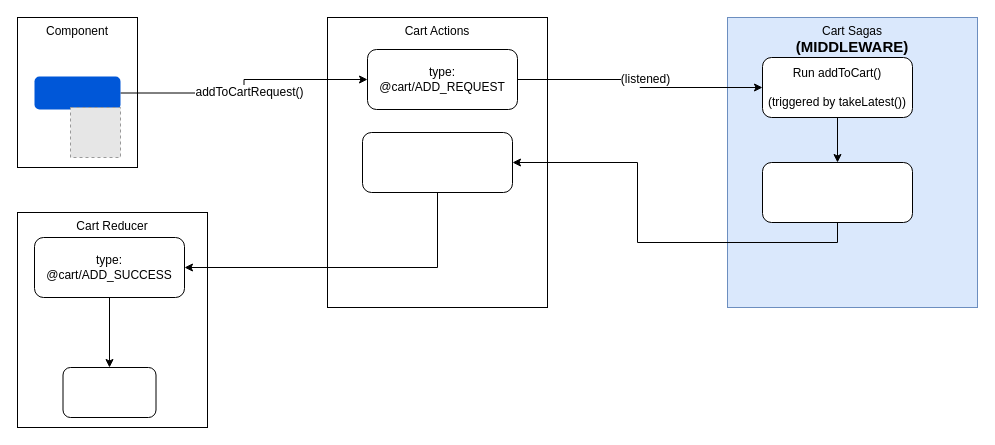
Image size: 995x445. Some labels were removed from this diagram. Grey dashed boxes stand in for pictures. Each missing label, with the centre of its shape:
Add to cart: the point at 77,92
addToCartSuccess(): the point at 437,162
Conclude transactions: the point at 109,392
put(addToCartSuccess()): the point at 837,192
